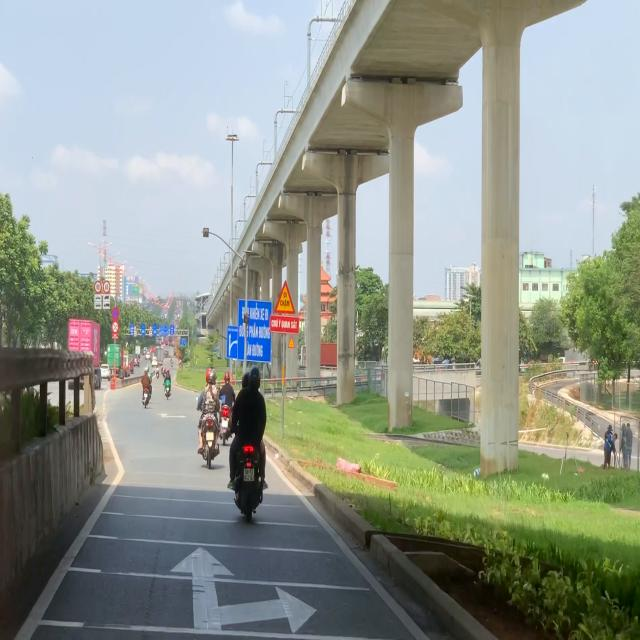Cam dung va do: (112, 306, 119, 320)
Nguy hiem: (274, 280, 296, 316)
Toc do toi da: (95, 280, 102, 294), (103, 280, 110, 294)
